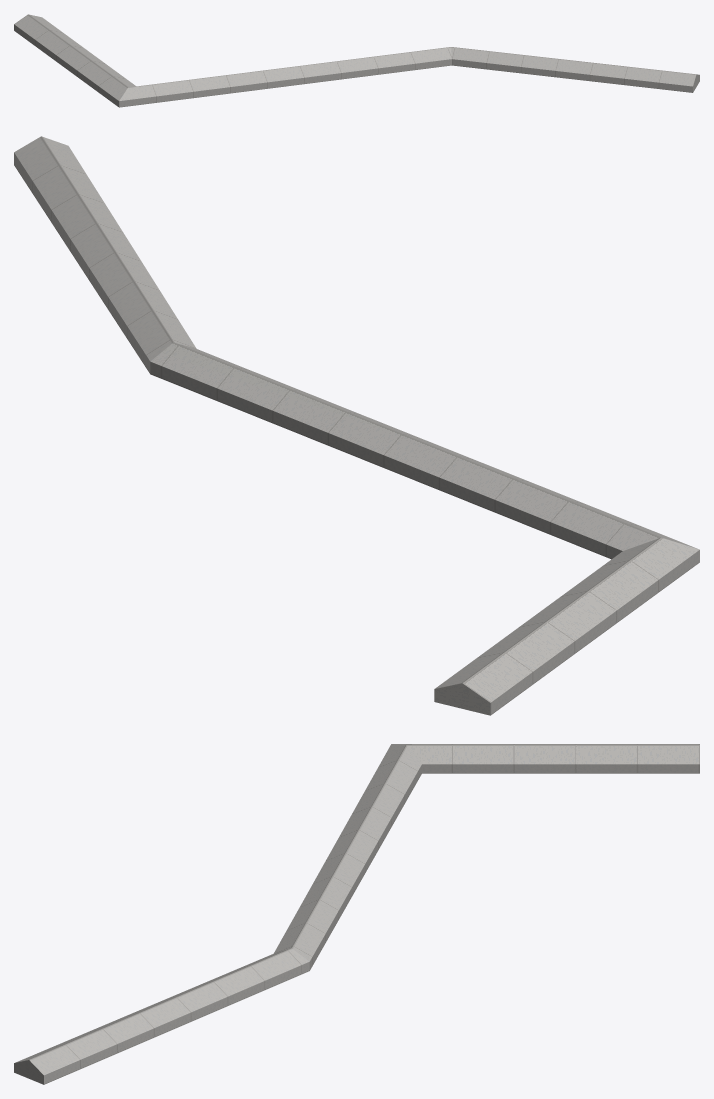
File: kd_stage_13612f_5_71.glb
The picture shows the model from 3 angles, top to bottom: view 1: azimuth 30°, elevation 25°; view 2: azimuth 150°, elevation 25°; view 3: azimuth 270°, elevation 25°; orthographic projection. The views are drawn at different scales.
Visible parts, largest first — view 1: kd_stage_13612f_5_71; view 2: kd_stage_13612f_5_71; view 3: kd_stage_13612f_5_71.
Boxes of the visible parts, x1,y1,x2,y2 form: kd_stage_13612f_5_71: (14, 14, 699, 107); kd_stage_13612f_5_71: (14, 136, 699, 715); kd_stage_13612f_5_71: (14, 744, 699, 1084).
Size of the model in its own units: 3.77 by 0.1 by 3.3.
1 material, 1 textured.
